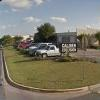Car: (26, 37, 60, 65)
